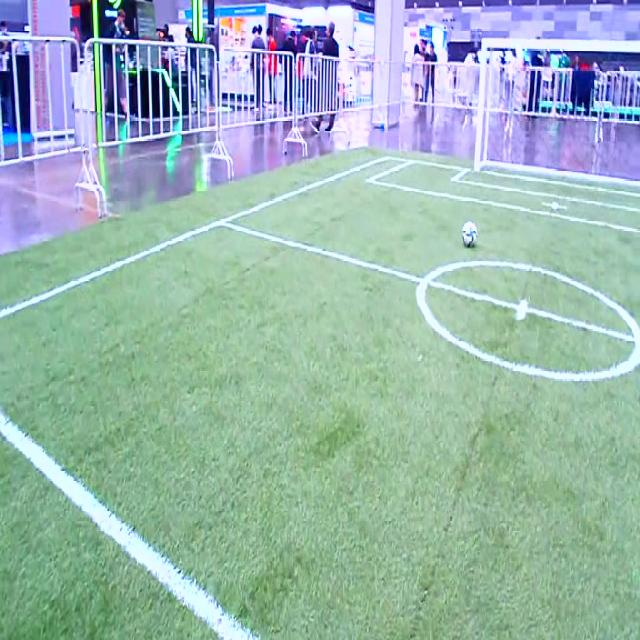ball: (462, 221, 478, 248)
